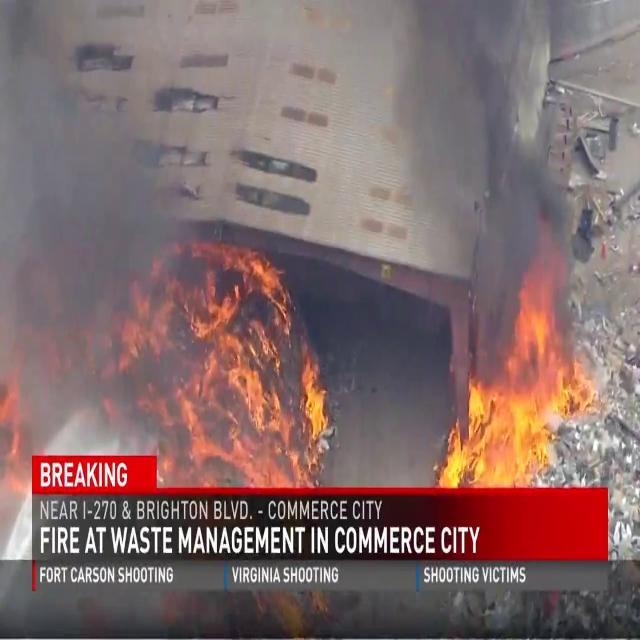Fire: (161, 239, 335, 492), (436, 274, 600, 494)
Smoke: (0, 1, 184, 472), (398, 0, 586, 356)
